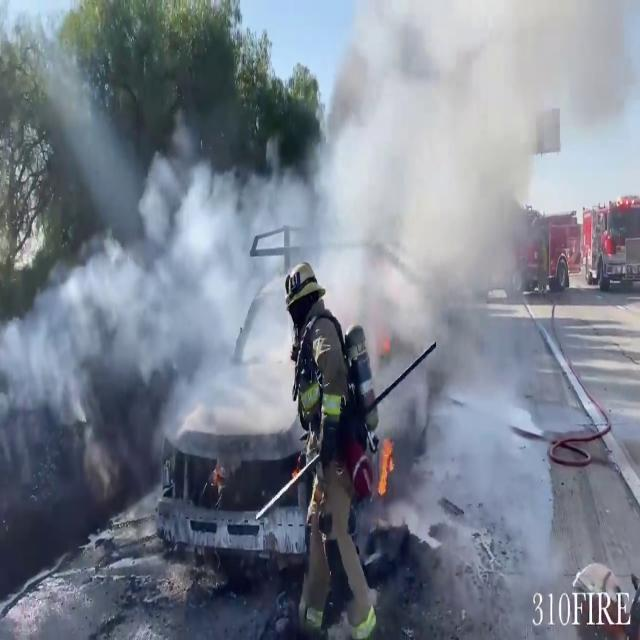Fire: (377, 430, 395, 502)
Smoke: (1, 2, 590, 454)
